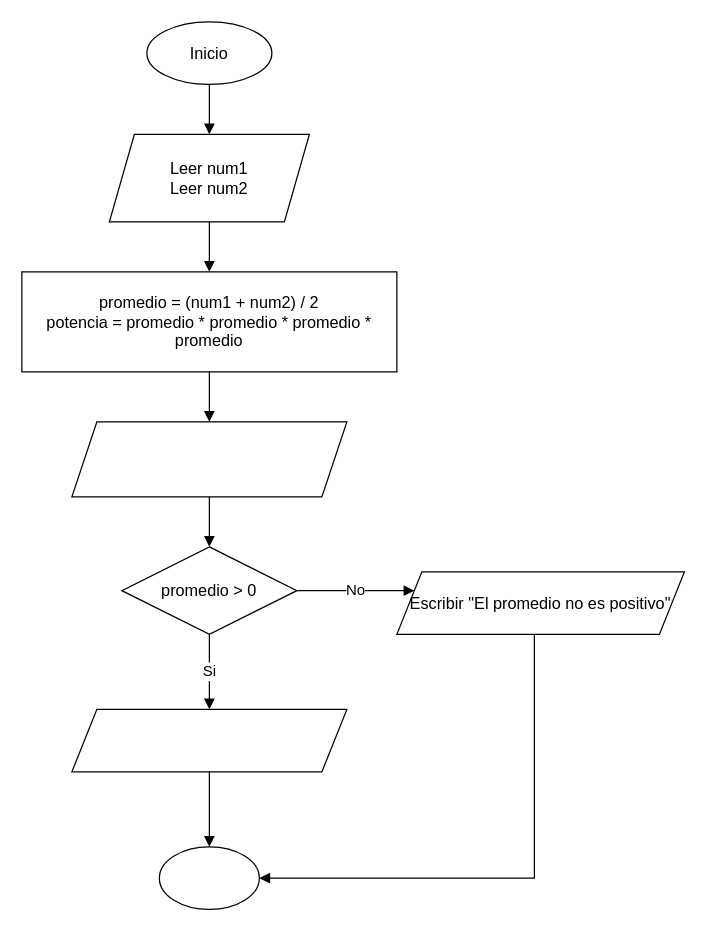
Some shapes in this 706 by 931 pixel diagram are drawn without their labels. Each missing label, with the box of its shape:
Escribir "El promedio es positivo": (71, 708, 347, 772)
Escribir promedio Escribir potencia: (71, 421, 347, 497)
Fin: (158, 846, 259, 909)
